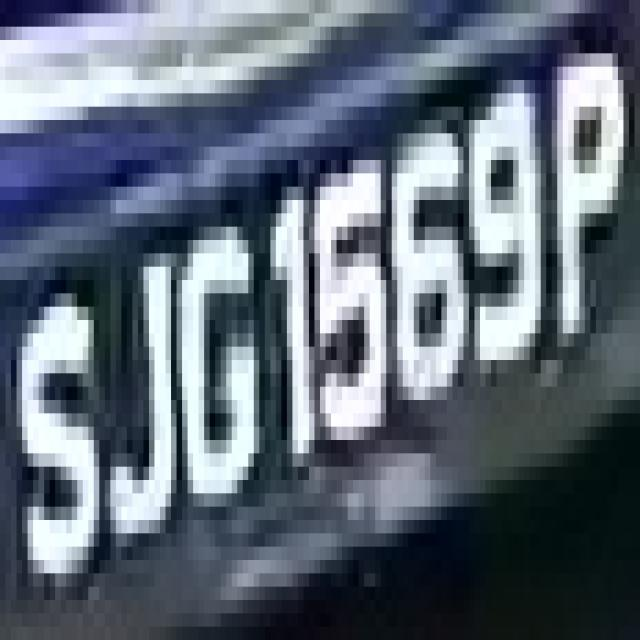1: (270, 160, 320, 520)
5: (309, 120, 403, 480)
6: (392, 106, 469, 426)
9: (452, 80, 546, 373)
G: (176, 160, 260, 560)
J: (88, 160, 177, 587)
P: (546, 13, 629, 360)
S: (11, 280, 99, 600)
